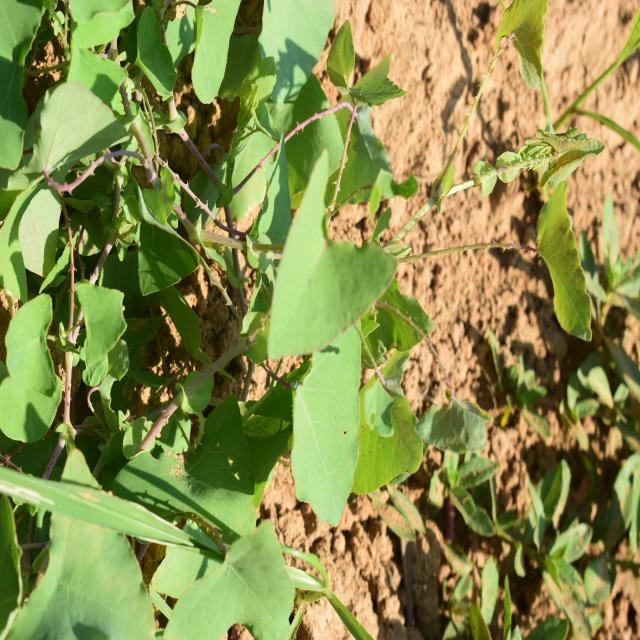Asiatic_Smartweed: (258, 155, 428, 516), (0, 55, 145, 438)
